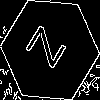Z: (25, 25, 75, 75)
